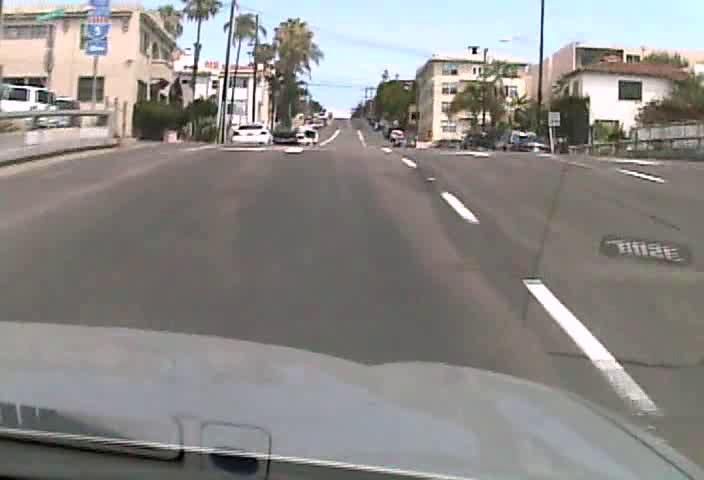speedLimitUrdbl: (547, 111, 561, 126)
